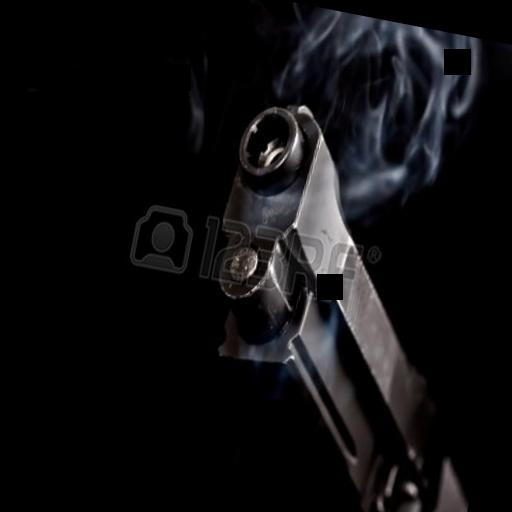Handgun: (156, 87, 512, 512)
